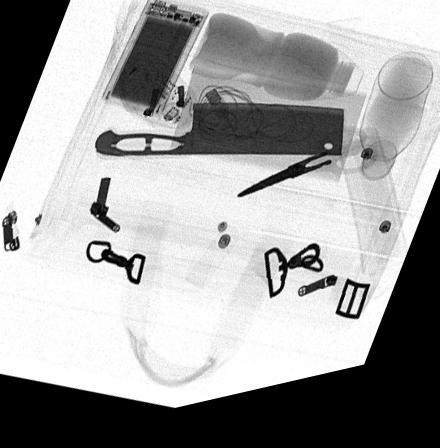Knife: (94, 109, 349, 171)
Powerbank: (101, 0, 210, 127)
Scissors: (234, 141, 378, 210)
